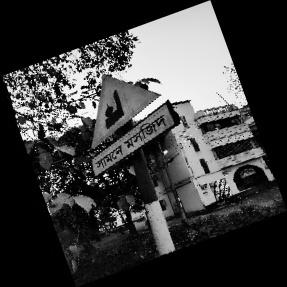Mosque in front: (89, 73, 181, 179)
